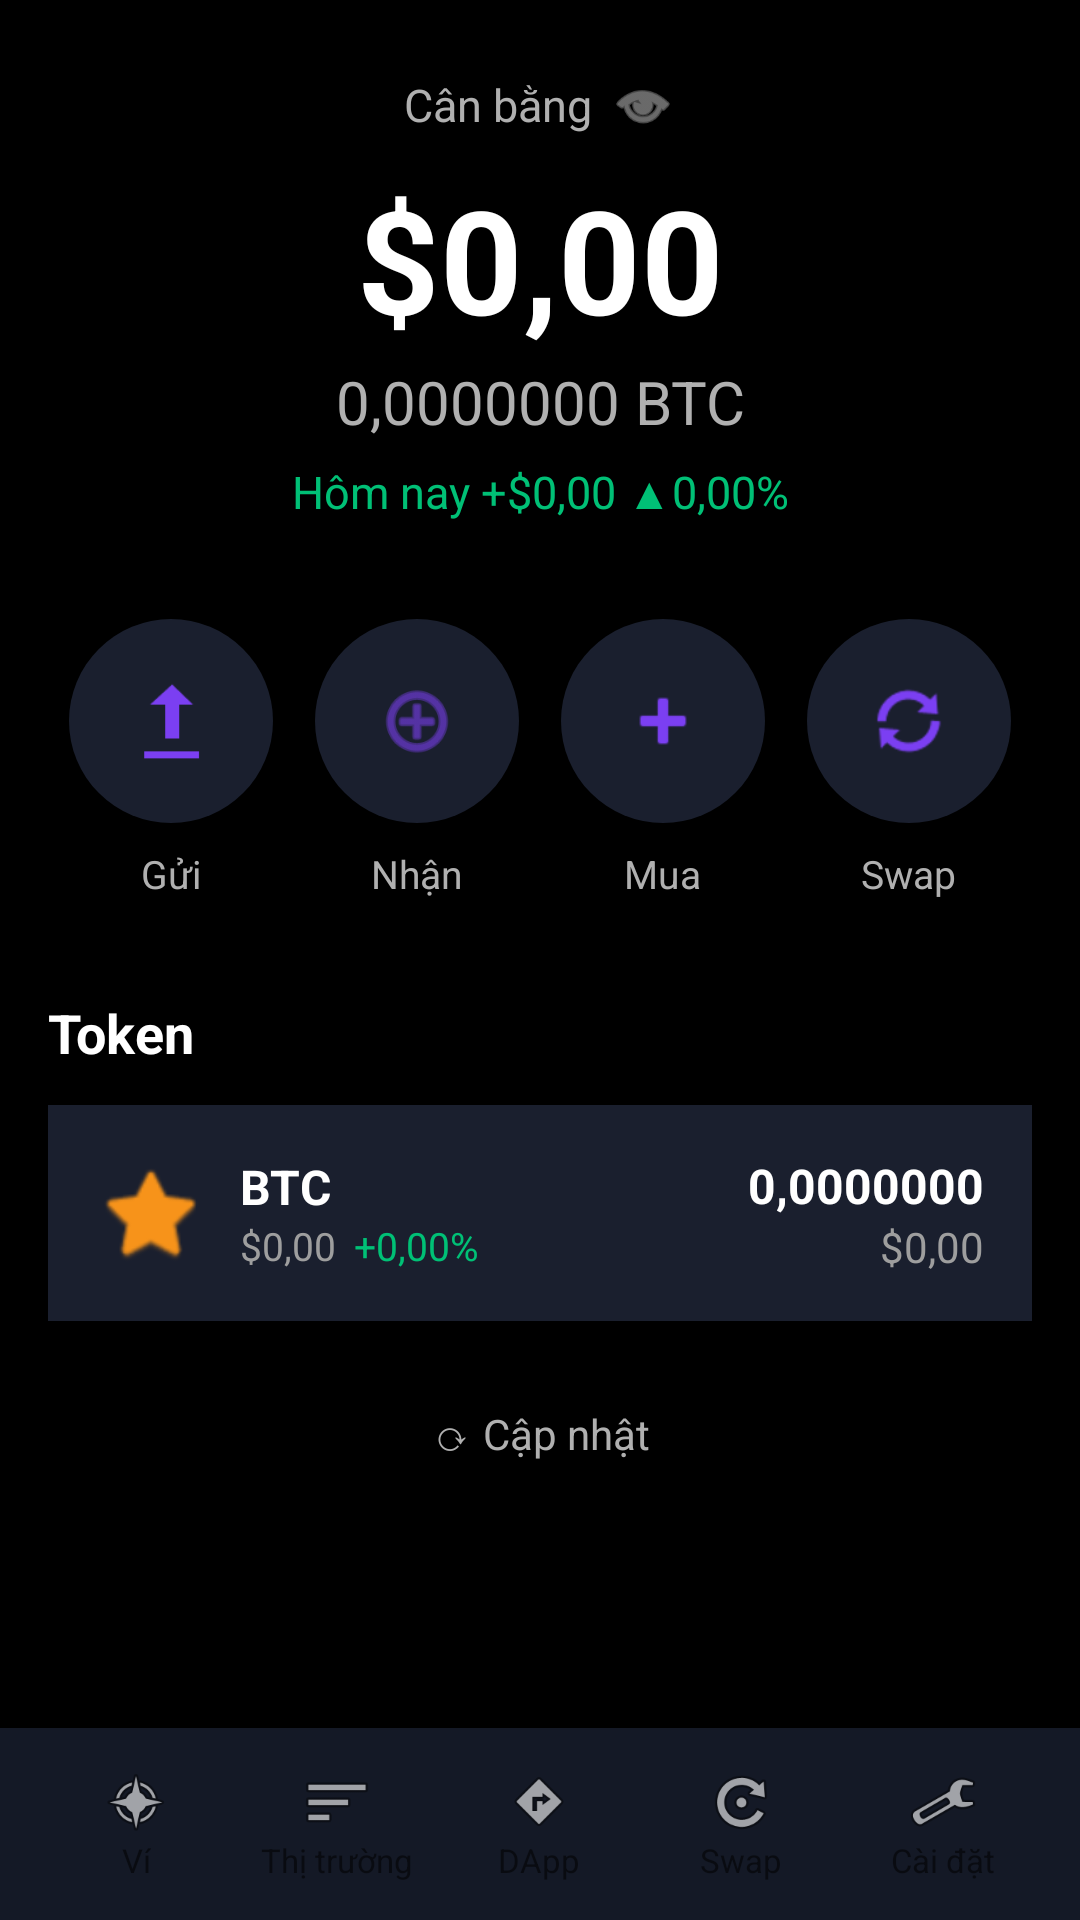

Icons on this 1080w x 1920h Android screen, each with its box as {"x1": x1, "y1": y1, "x2": x2, "y2": y2}:
add: {"x1": 386, "y1": 690, "x2": 448, "y2": 753}, {"x1": 639, "y1": 697, "x2": 687, "y2": 745}
compass: {"x1": 110, "y1": 1777, "x2": 162, "y2": 1828}
directions: {"x1": 516, "y1": 1779, "x2": 562, "y2": 1824}
sort by size: {"x1": 308, "y1": 1784, "x2": 366, "y2": 1820}
star on: {"x1": 106, "y1": 1170, "x2": 196, "y2": 1258}
upload: {"x1": 144, "y1": 684, "x2": 199, "y2": 759}
view: {"x1": 616, "y1": 90, "x2": 670, "y2": 124}
